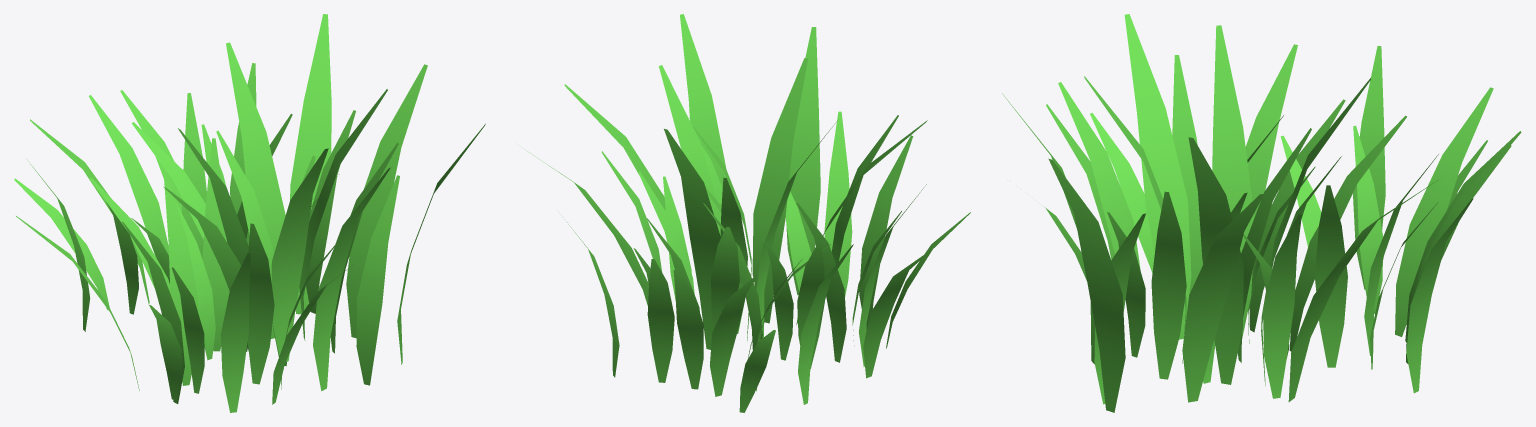
Rendered from Grass_001.fbx.
3 views of the same model, side by side, from view 1: azimuth 30°, elevation 25°; view 2: azimuth 150°, elevation 25°; view 3: azimuth 270°, elevation 25° (orthographic). The views are drawn at different scales.
Visible parts, largest first — view 1: 平面.001; view 2: 平面.001; view 3: 平面.001.
Part boxes in pixels (x1,y1,x2,y2): 平面.001: (14,14,485,412); 平面.001: (527,14,970,412); 平面.001: (1002,14,1521,412).
Size of the model in its own units: 294 by 192 by 287.
